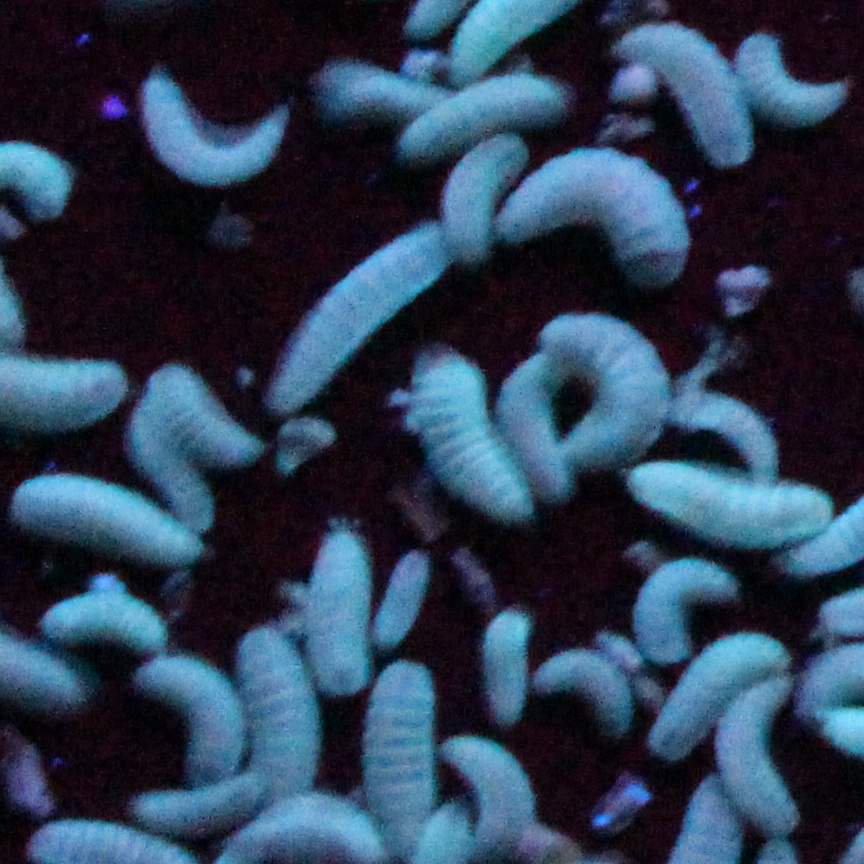larve: (285, 221, 439, 385), (515, 149, 680, 278), (24, 471, 190, 561), (552, 310, 655, 452), (632, 29, 748, 150), (415, 350, 495, 507), (662, 628, 776, 733), (641, 470, 813, 535), (411, 75, 550, 154), (136, 657, 232, 771), (150, 82, 269, 173), (734, 680, 797, 833), (443, 735, 525, 852), (639, 556, 731, 659), (371, 668, 429, 829), (257, 794, 381, 864), (162, 373, 257, 463), (739, 28, 834, 117), (315, 536, 369, 691), (248, 638, 302, 791), (681, 394, 780, 475), (131, 417, 202, 522), (45, 591, 160, 654), (538, 656, 629, 731), (450, 133, 502, 264), (513, 350, 560, 485), (138, 792, 250, 829), (488, 608, 525, 715), (325, 73, 436, 105), (383, 552, 420, 643)
